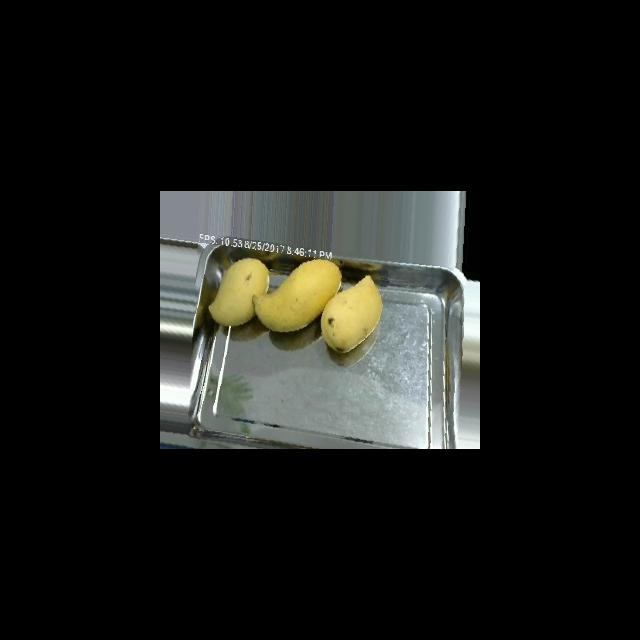mango: (252, 258, 341, 333), (320, 274, 382, 353), (208, 257, 269, 326)
